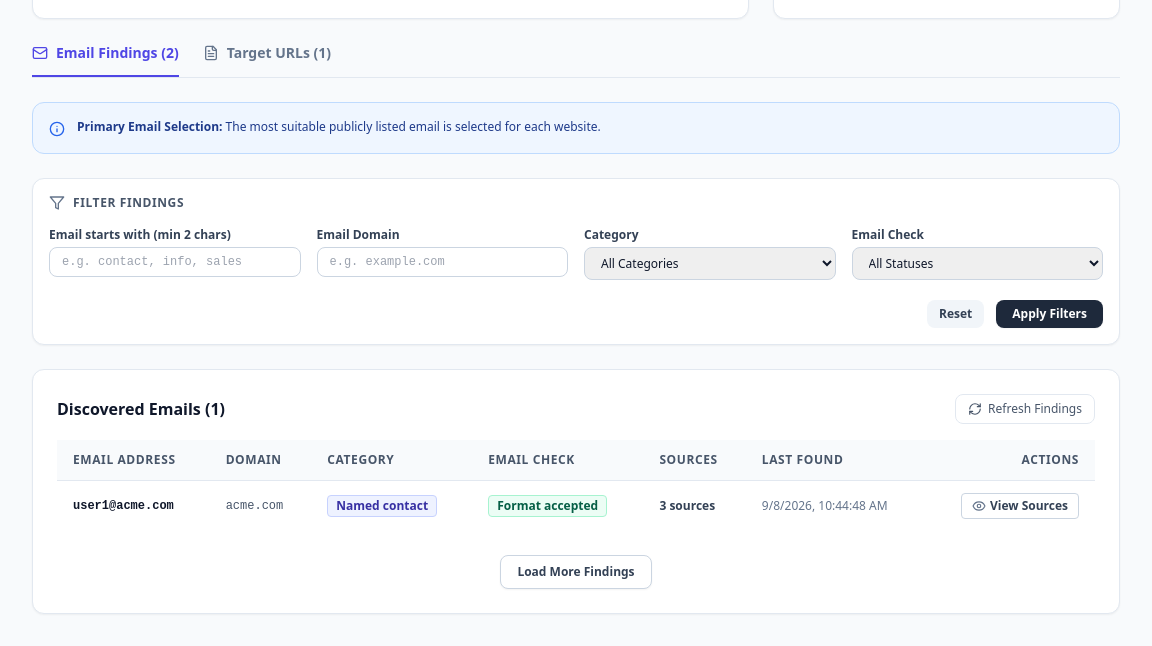
Test: Phase 3C: Email Findings List & Filtering › deduplicates appended results by finding_id during cursor pagination
(page scrolled)
Expected: the text "user1@acme.com" is shown, x1=57 y1=480 x2=210 y2=531
Click the button "Load More Findings" at (576, 572), box x1=500 y1=555 x2=652 y2=589
(page scrolled)
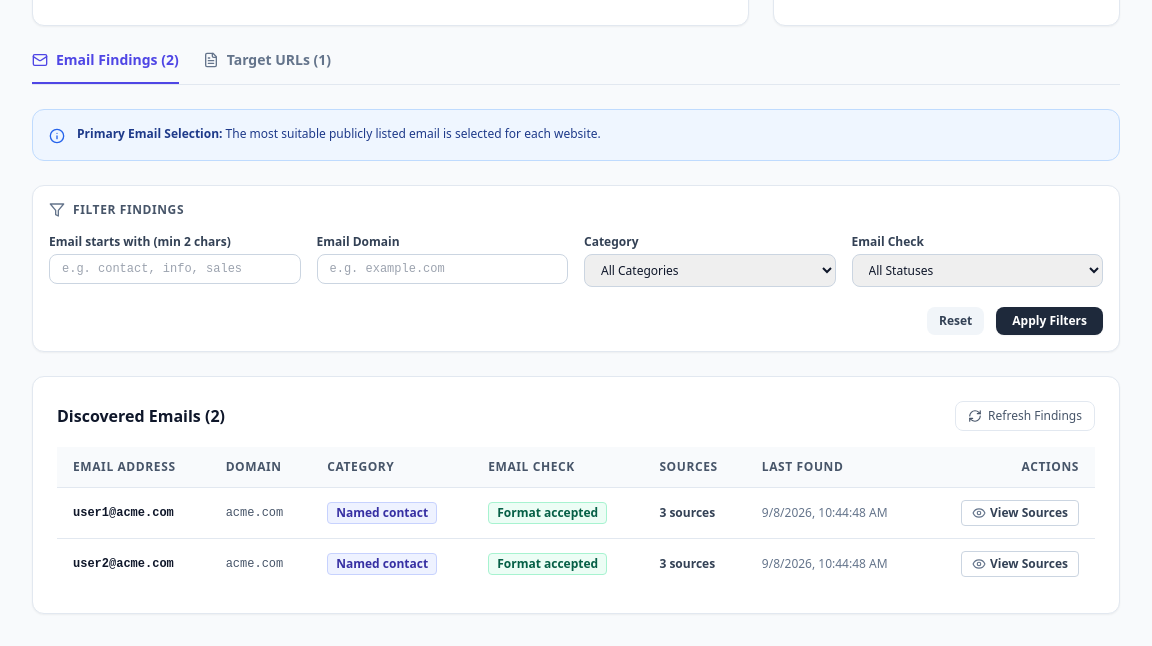
Expected: the text "user2@acme.com" is shown, x1=57 y1=538 x2=210 y2=589
Expected: the text "user1@acme.com" is shown once, x1=57 y1=488 x2=210 y2=538
